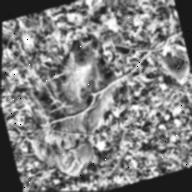boar: (12, 30, 160, 192)
